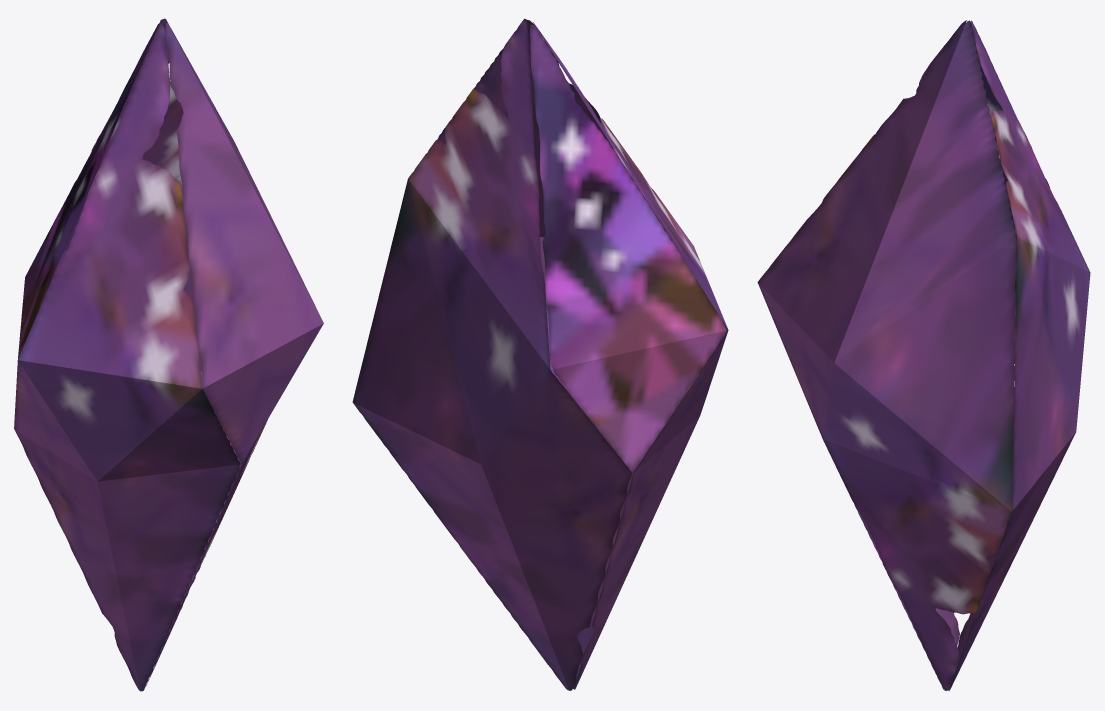
3 renders of one model, left to right at view 1: azimuth 30°, elevation 25°; view 2: azimuth 150°, elevation 25°; view 3: azimuth 270°, elevation 25°, orthographic. The views are drawn at different scales.
Visible parts, largest first — view 1: 棱角球.009; view 2: 棱角球.009; view 3: 棱角球.009.
Boxes of the visible parts, x1,y1,x2,y2 form: 棱角球.009: [14, 18, 323, 691]; 棱角球.009: [352, 18, 728, 690]; 棱角球.009: [757, 20, 1090, 690].
Size of the model in its own units: 27.37 by 54.27 by 23.41.
Materials: 1 (1 with a texture image).
